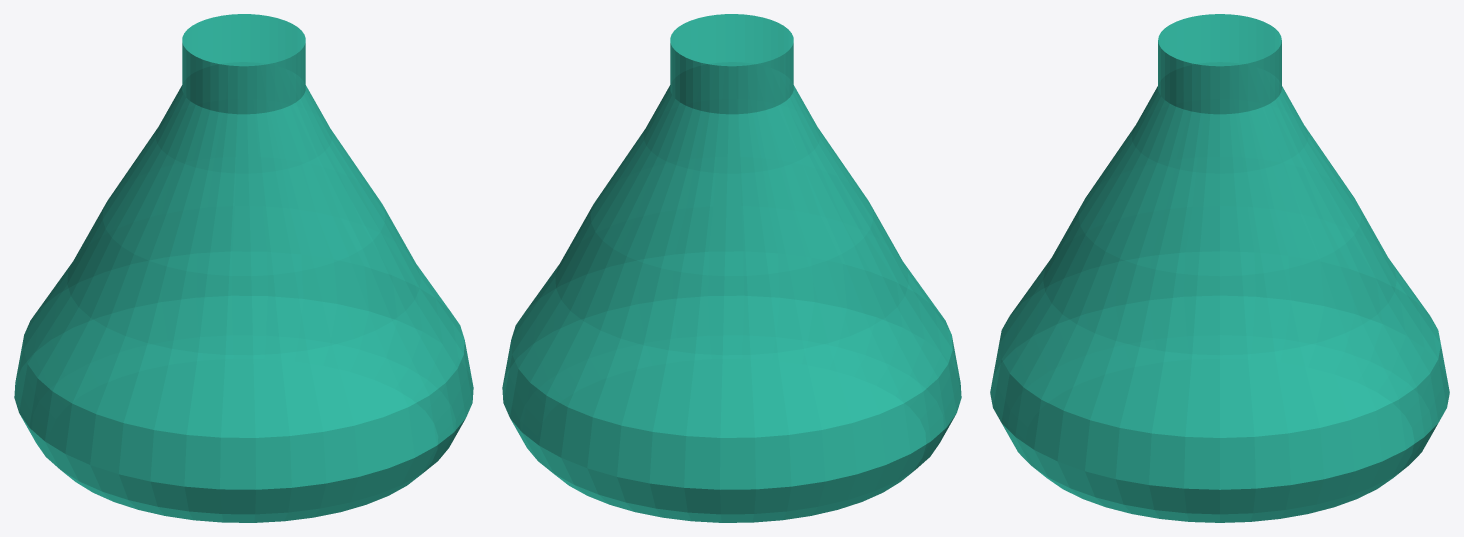
File: research_agent.obj
3 views of the same model, side by side, from view 1: azimuth 30°, elevation 25°; view 2: azimuth 150°, elevation 25°; view 3: azimuth 270°, elevation 25° (orthographic).
Visible parts, largest first — view 1: research_agent; view 2: research_agent; view 3: research_agent.
Boxes of the visible parts, box(x1,y1,x2,y2) form: research_agent: box(14, 14, 473, 522); research_agent: box(502, 14, 961, 522); research_agent: box(990, 14, 1449, 522).
Bounding box in the file's own units: 2.6 × 2.5 × 2.6.
